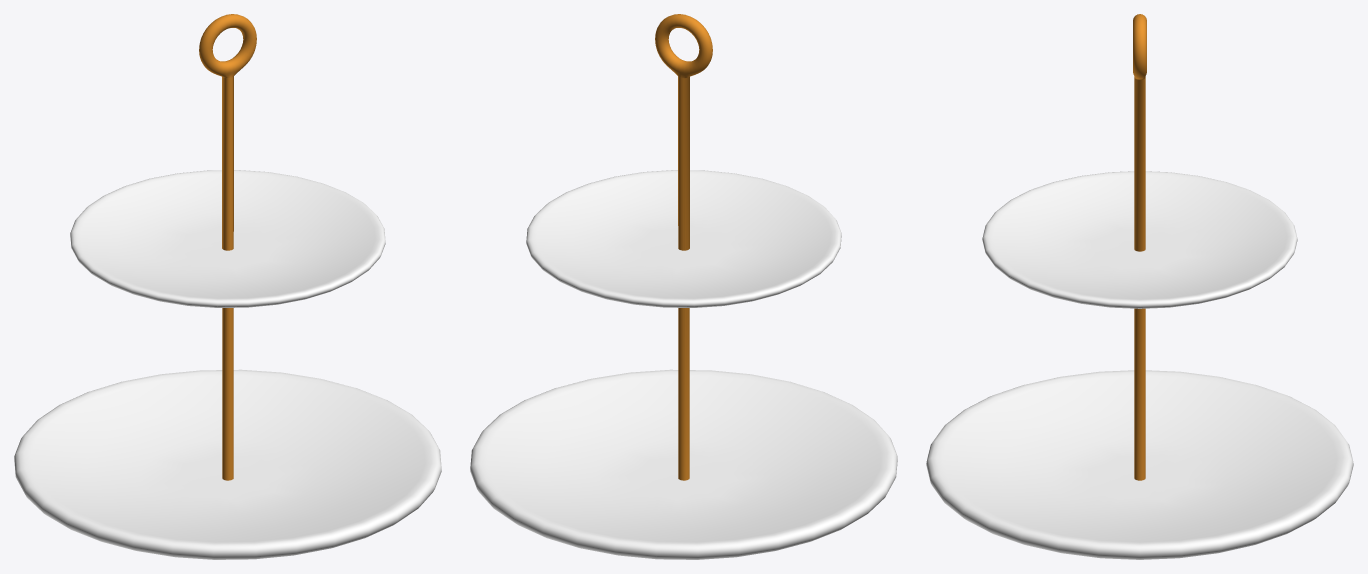
The model's file is SM_two_tier_plate.glb.
The picture shows the model from 3 angles, left to right: view 1: azimuth 30°, elevation 25°; view 2: azimuth 150°, elevation 25°; view 3: azimuth 270°, elevation 25°; orthographic projection.
Visible parts, largest first — view 1: SM_two_tier_plate; view 2: SM_two_tier_plate; view 3: SM_two_tier_plate.
Boxes of the visible parts, x1,y1,x2,y2 form: SM_two_tier_plate: (14,14,441,559); SM_two_tier_plate: (470,14,897,559); SM_two_tier_plate: (926,14,1353,559).
Size of the model in its own units: 0.5792 by 0.7157 by 0.5792.
Materials: 2 (2 with a texture image).
